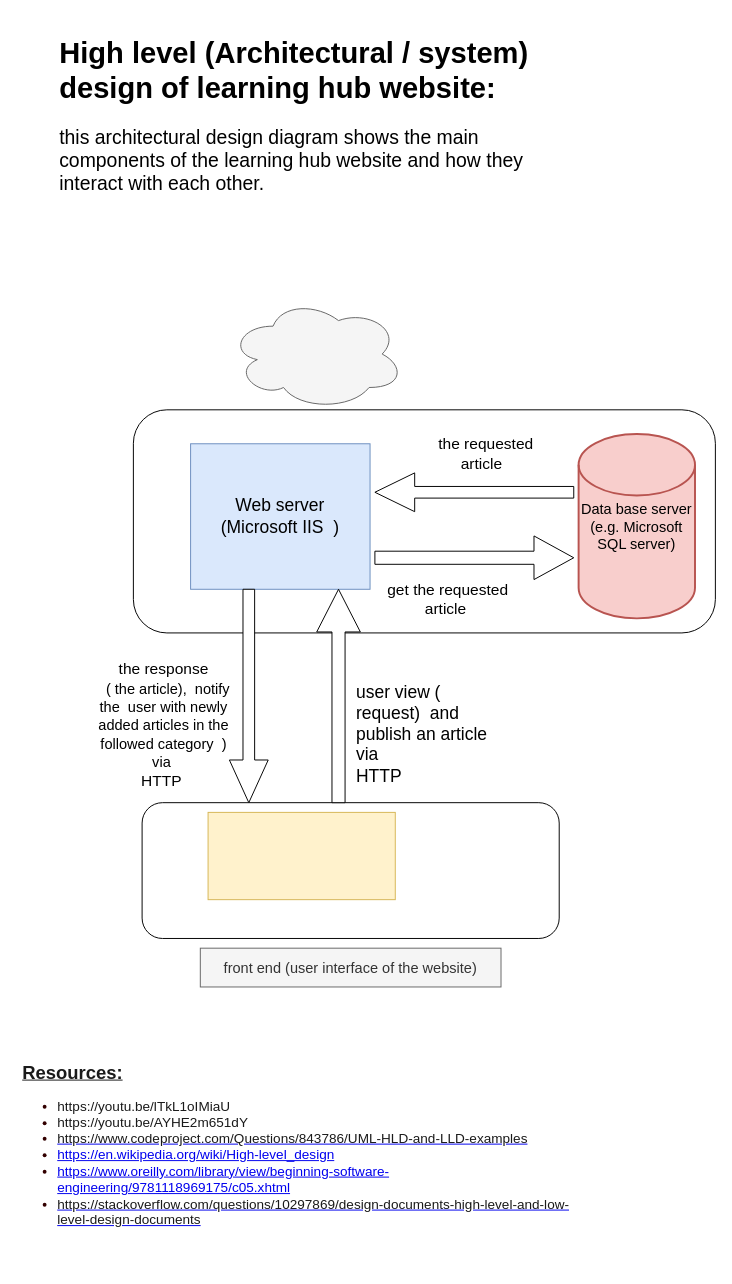
Some shapes in this 732 by 1284 pixel diagram are drawn without their labels. The shapes that lost their labels are listed below. From the top down, each one's centre as x and y in pixels, then its label:
At (316,353): "back end side on the cloud".
At (301,855): "Client ( web browser) i.e Firefox and google chrome".
